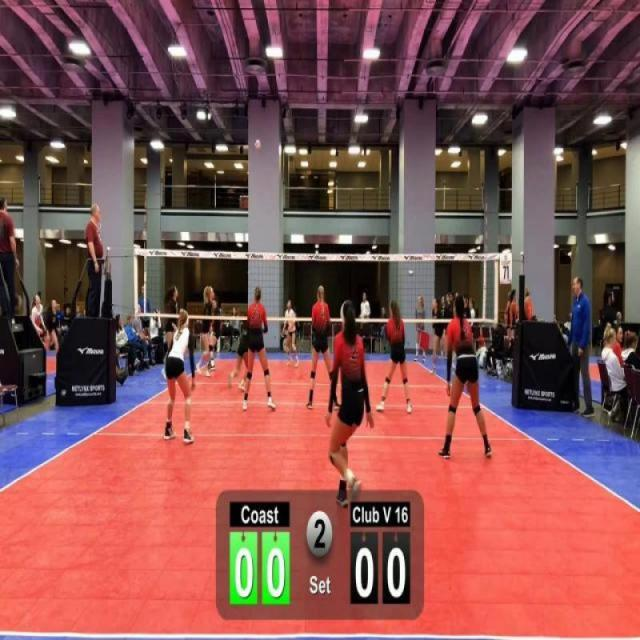volleyball: (254, 136, 263, 153)
